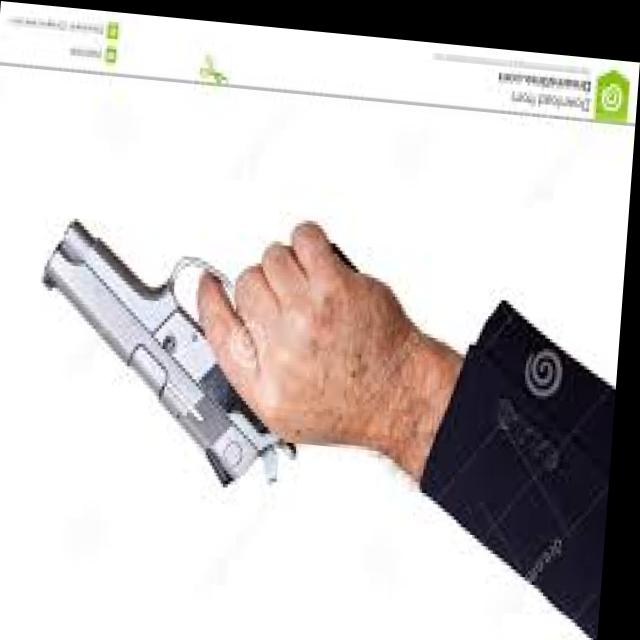handgun: (35, 197, 370, 501)
